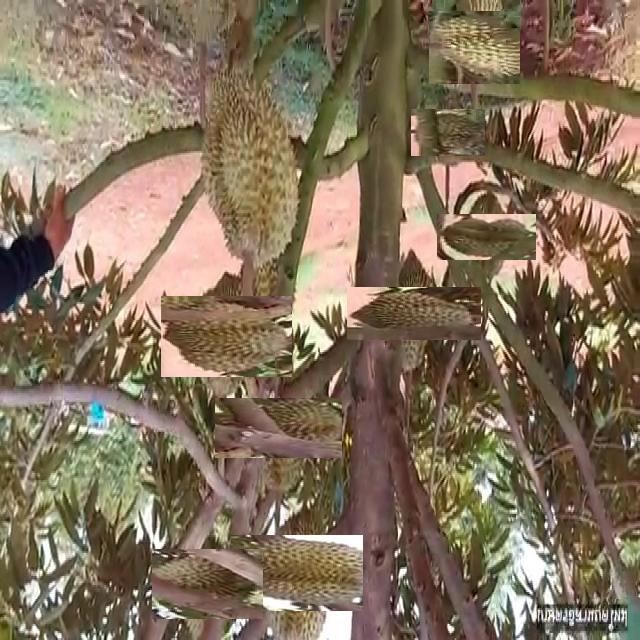durian: (197, 55, 303, 273), (173, 282, 280, 390), (245, 520, 349, 625), (366, 266, 461, 361), (231, 381, 325, 475), (162, 539, 253, 630), (434, 6, 516, 89), (449, 200, 523, 274), (418, 102, 478, 163)
